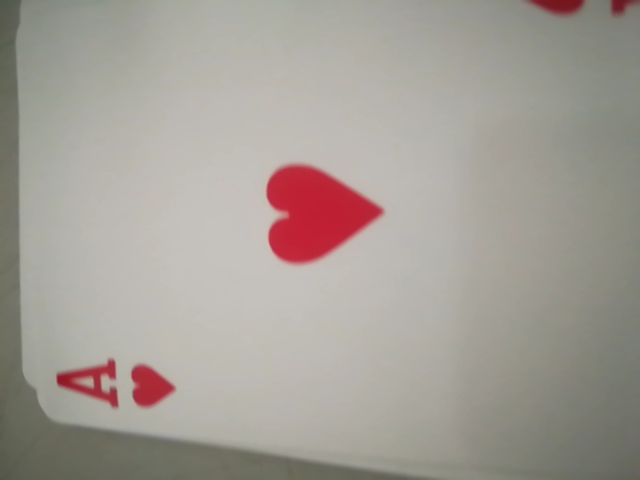hx a: (42, 342, 195, 425)
